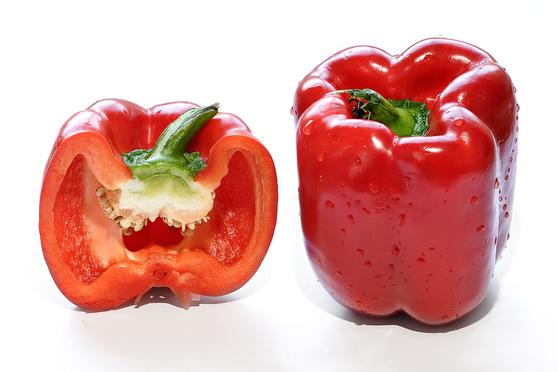pepper: (295, 43, 514, 330)
